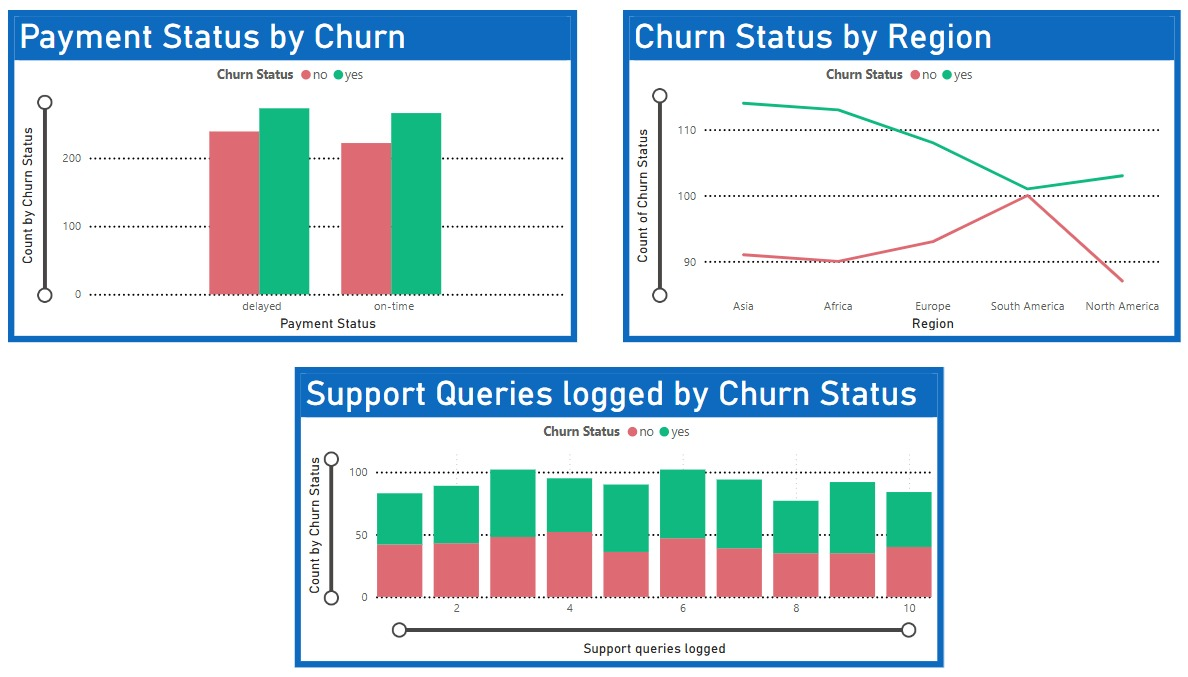

The dashboard page shown, as its layout file describes it:
{"tool":"powerbi","page":{"name":"Churn Insights (contiued)","canvas":[1280,720],"ordinal":2},"visuals":[{"type":"clusteredColumnChart","title":"Payment Status by Churn","fields":{"Category":["complete_sql_dataset 1.Payment Status"],"Y":["CountNonNull(complete_sql_dataset 1.Churn Status)"],"Series":["complete_sql_dataset 1.Churn Status"]},"box":[22.6,12.2,597.5,348.4],"z":0},{"type":"lineChart","title":"Churn Status by Region","fields":{"Y":["CountNonNull(complete_sql_dataset 1.Churn Status)"],"Series":["complete_sql_dataset 1.Churn Status"],"Category":["complete_sql_dataset 1.Region"]},"box":[667.2,12.2,585.3,348.4],"z":1000},{"type":"columnChart","title":"Support Queries logged by Churn Status","fields":{"Y":["CountNonNull(complete_sql_dataset 1.Churn Status)"],"Series":["complete_sql_dataset 1.Churn Status"],"Category":["complete_sql_dataset 1.Support queries logged"]},"box":[322.3,386.7,681.1,315.3],"z":2000}]}

Visuals, with their boxes in screenshot pixels (x1, y1, x2, y2), scaled from the page's 1280x720 canvas onto the 1188x677 screenshot:
"Payment Status by Churn" clusteredColumnChart: l=21, t=11, r=576, b=339
"Churn Status by Region" lineChart: l=619, t=11, r=1162, b=339
"Support Queries logged by Churn Status" columnChart: l=299, t=364, r=931, b=660
